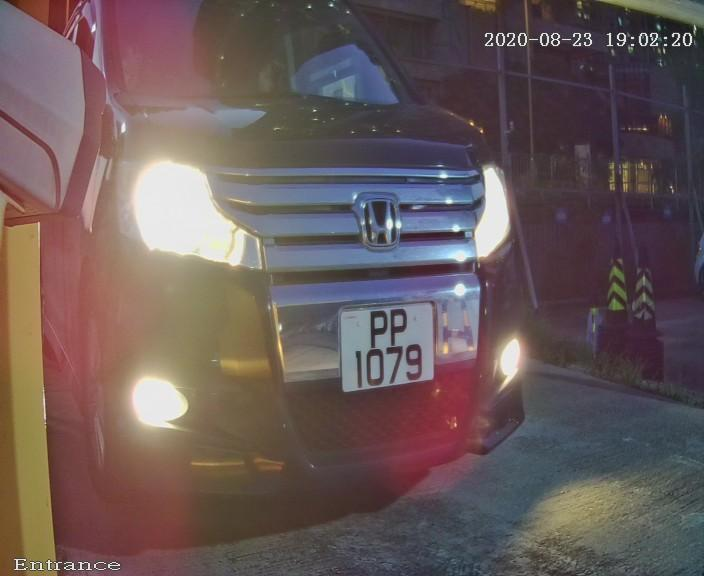Car: (10, 6, 576, 553)
License Plate: (327, 286, 450, 404)
